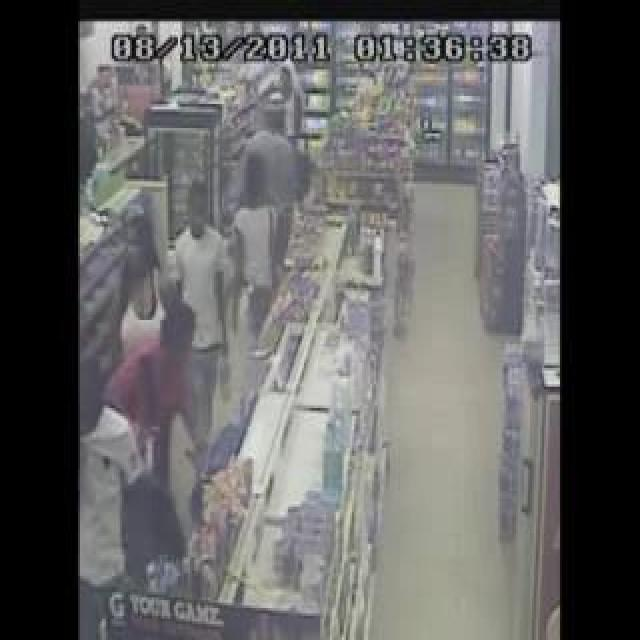thief: (107, 210, 258, 440)
